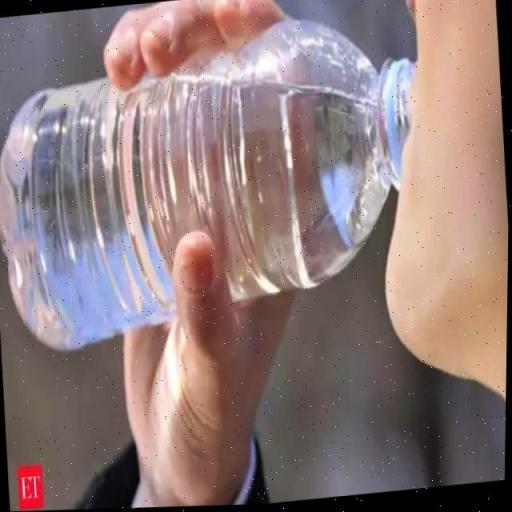plastic: (0, 20, 414, 354)
